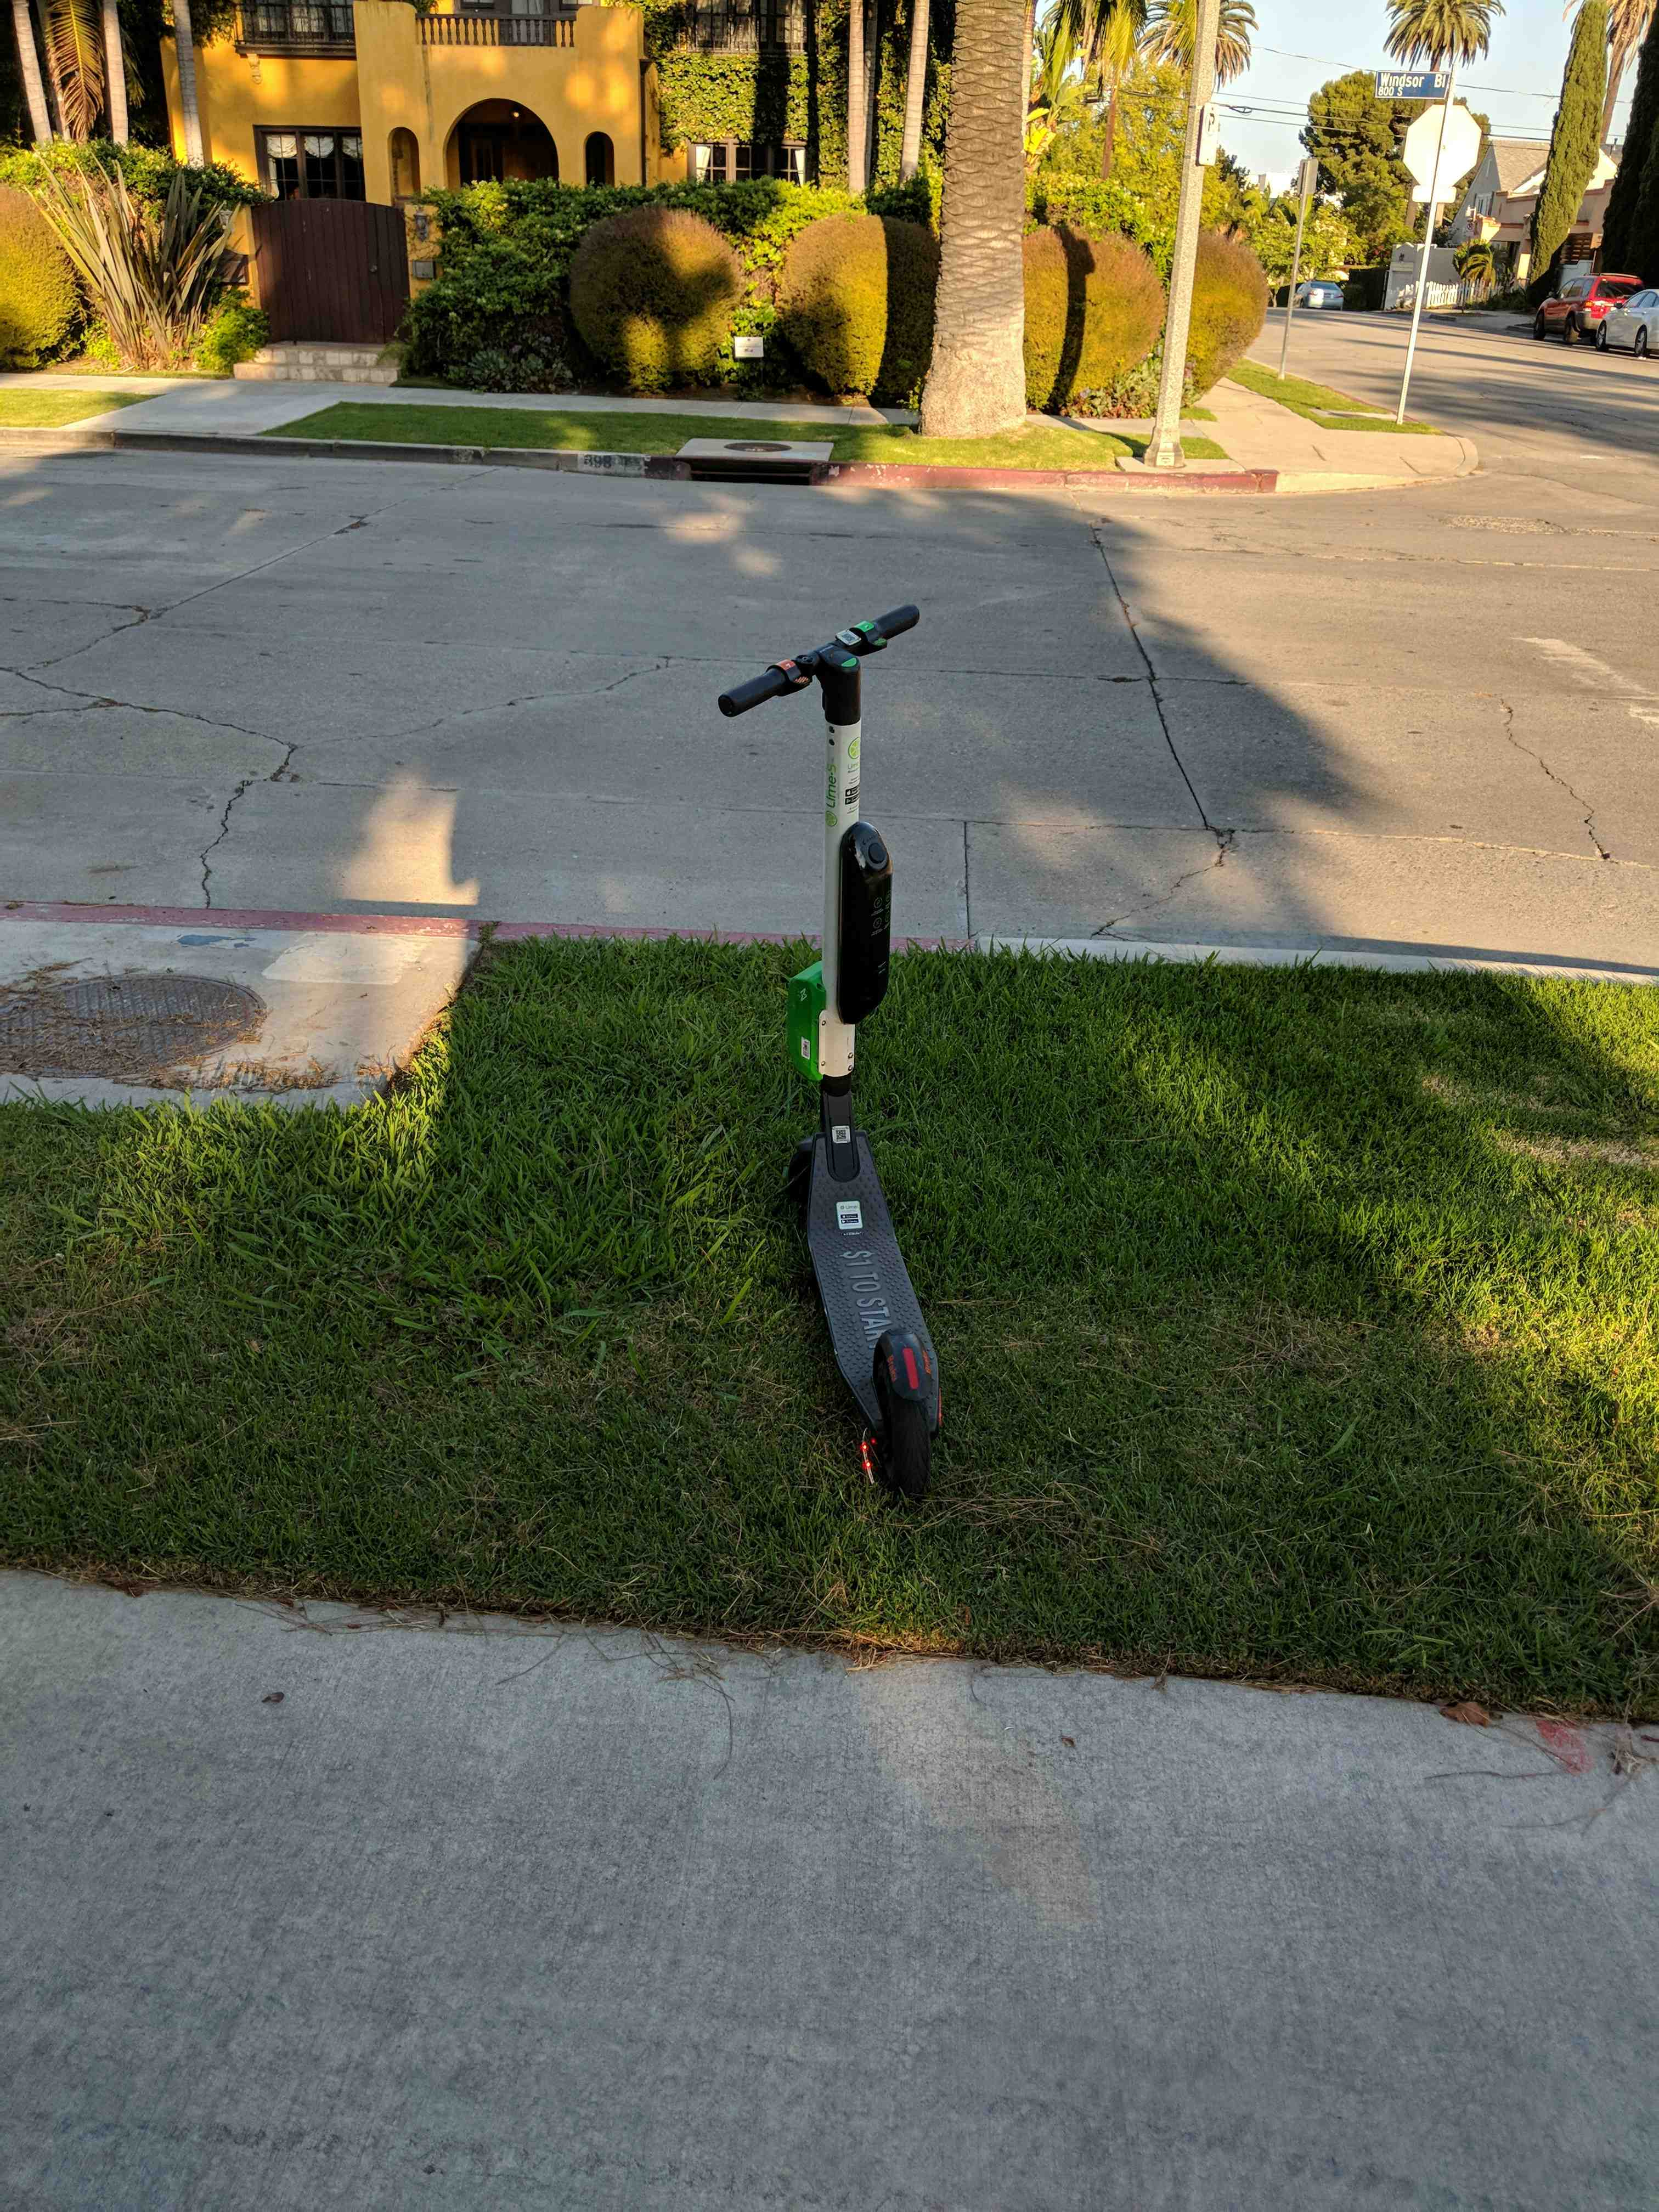scooter: (704, 585, 1018, 1555)
